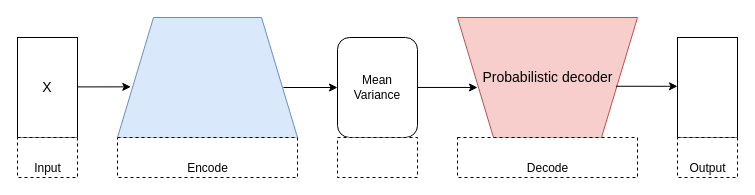
This 755x195 diagram has some shape labels left out. Each missing label, with the centre of its shape:
"Latent space" belongs at (x=377, y=157).
"Probabilistic encoder" belongs at (x=207, y=77).
"X’" belongs at (x=707, y=87).
